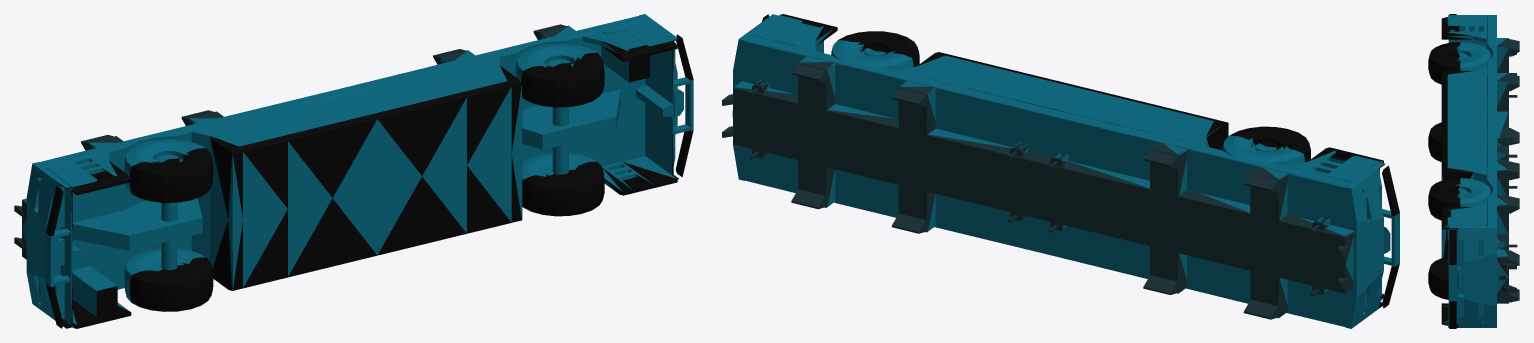
Rendered from agv.dae.
The picture shows the model from 3 angles, left to right: view 1: azimuth 30°, elevation 25°; view 2: azimuth 150°, elevation 25°; view 3: azimuth 270°, elevation 25°; orthographic projection. The views are drawn at different scales.
Parts seen in each view (by area): view 1: agv_body; view 2: agv_body; view 3: agv_body.
Boxes of the visible parts, x1,y1,x2,y2 form: agv_body: [14, 14, 693, 328]; agv_body: [722, 14, 1399, 328]; agv_body: [1428, 14, 1519, 328].
Bounding box in the file's own units: 14.69 × 2.54 × 3.11.
